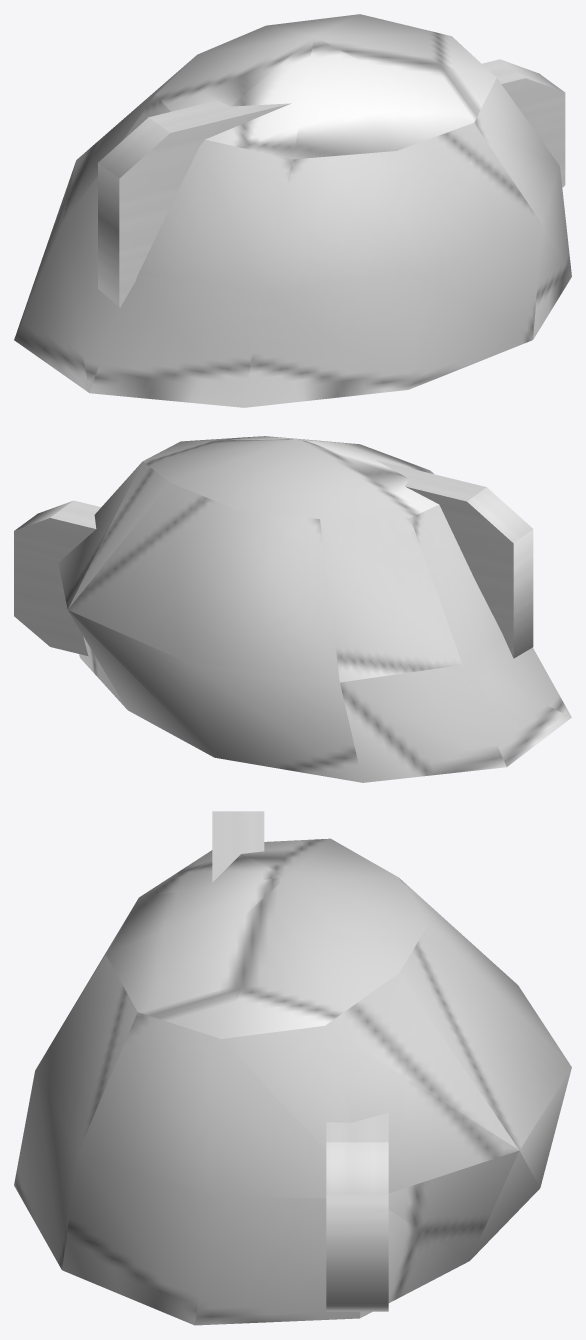
Rendered from slag_2.obj.
The picture shows the model from 3 angles, top to bottom: view 1: azimuth 30°, elevation 25°; view 2: azimuth 150°, elevation 25°; view 3: azimuth 270°, elevation 25°; orthographic projection. The views are drawn at different scales.
Visible parts, largest first — view 1: part_000_slag, part_030_slag_metal, part_035_slag_metal; view 2: part_000_slag, part_030_slag_metal, part_035_slag_metal; view 3: part_000_slag, part_035_slag_metal, part_030_slag_metal.
Boxes of the visible parts, x1,y1,x2,y2 form: part_000_slag: (14, 14, 571, 407); part_030_slag_metal: (98, 100, 291, 307); part_035_slag_metal: (482, 59, 565, 187); part_000_slag: (58, 436, 571, 782); part_030_slag_metal: (376, 460, 533, 658); part_035_slag_metal: (14, 500, 100, 655); part_000_slag: (14, 838, 571, 1325); part_035_slag_metal: (326, 1113, 388, 1311); part_030_slag_metal: (212, 811, 264, 882).
Bounding box in the file's own units: 0.7112 × 0.34 × 0.5373.
